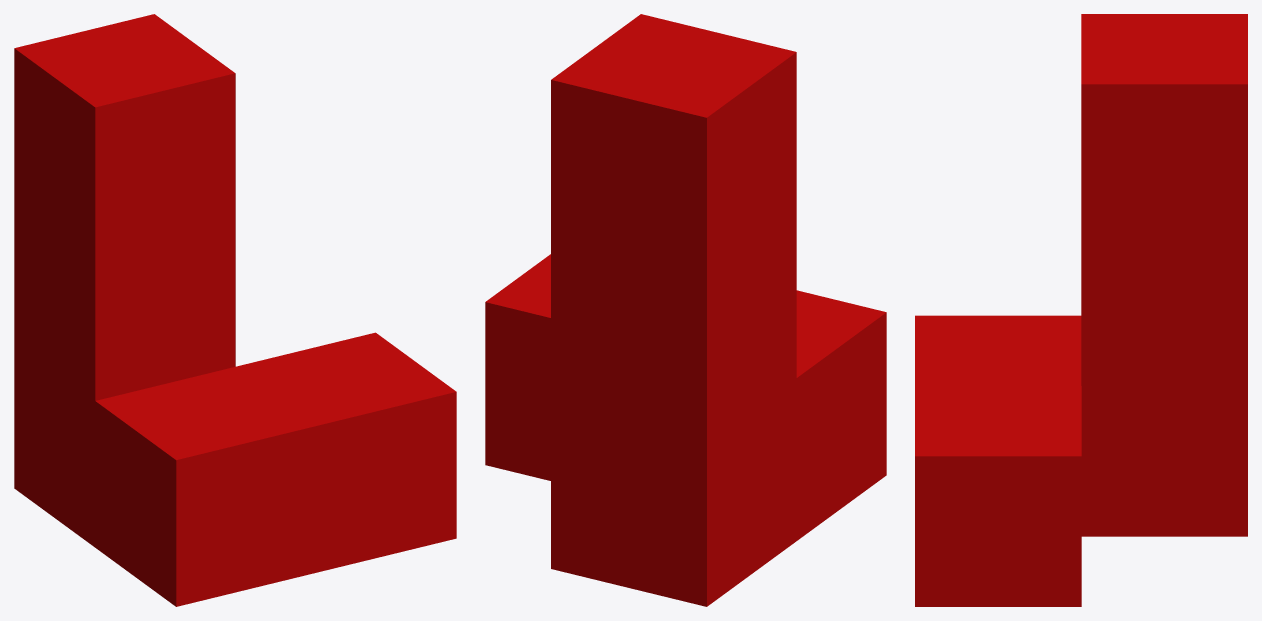
File: ellelltri.obj
3 views of the same model, side by side, from view 1: azimuth 30°, elevation 25°; view 2: azimuth 150°, elevation 25°; view 3: azimuth 270°, elevation 25° (orthographic). The views are drawn at different scales.
Visible parts, largest first — view 1: ellelltri; view 2: ellelltri; view 3: ellelltri.
Part boxes in pixels (bbox=[...]): ellelltri: bbox=[14, 14, 456, 606]; ellelltri: bbox=[485, 14, 886, 606]; ellelltri: bbox=[915, 14, 1247, 606].
Bounding box in the file's own units: 2 × 3 × 2.
